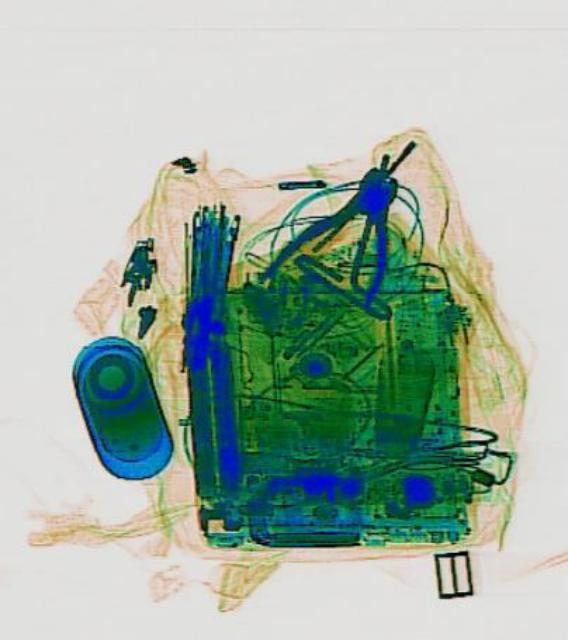Pliers: (260, 140, 426, 324)
